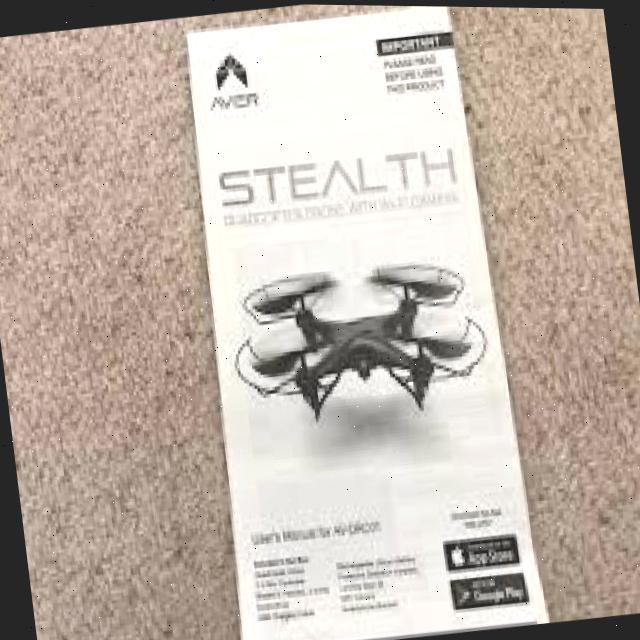drone: (212, 239, 501, 447)
